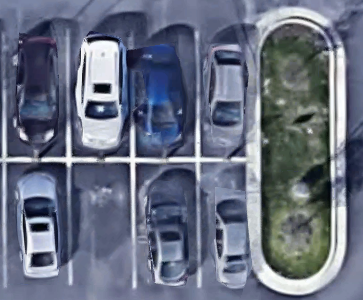Occupied: (132, 28, 198, 159), (3, 27, 68, 159), (3, 159, 70, 287), (69, 28, 133, 160), (133, 160, 198, 288), (197, 28, 252, 160), (197, 161, 253, 287)
Vacant: (69, 160, 134, 288)
